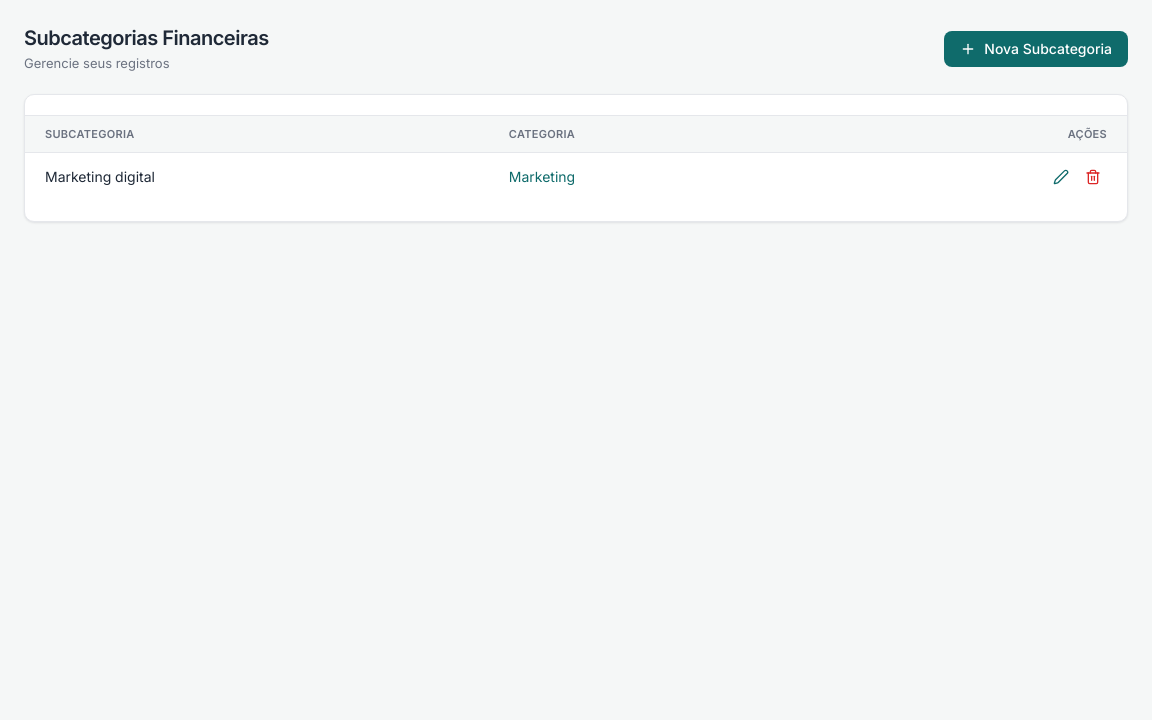
<FinancialSubcategoryList> › exclui uma subcategoria pelo botão da linha e recarrega a lista
Click the button named "Excluir" at (1093,177), box [1079,163,1107,191]
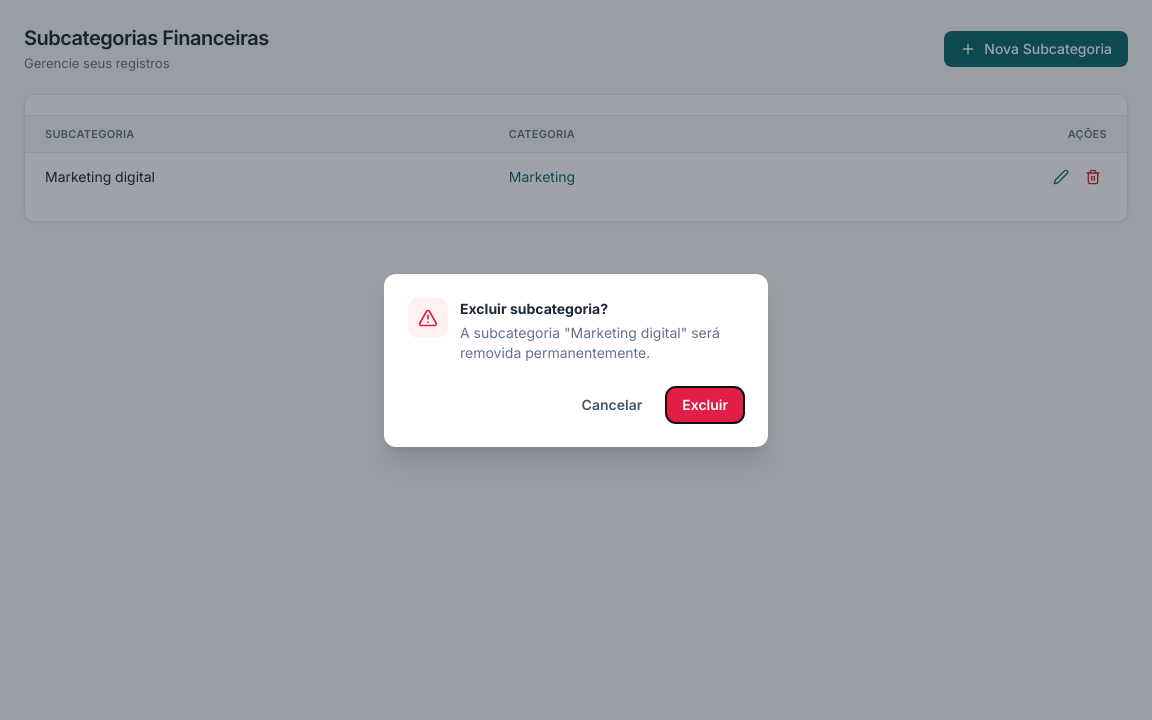
Click the button "Excluir" at (705,404), box [666,386,744,422]
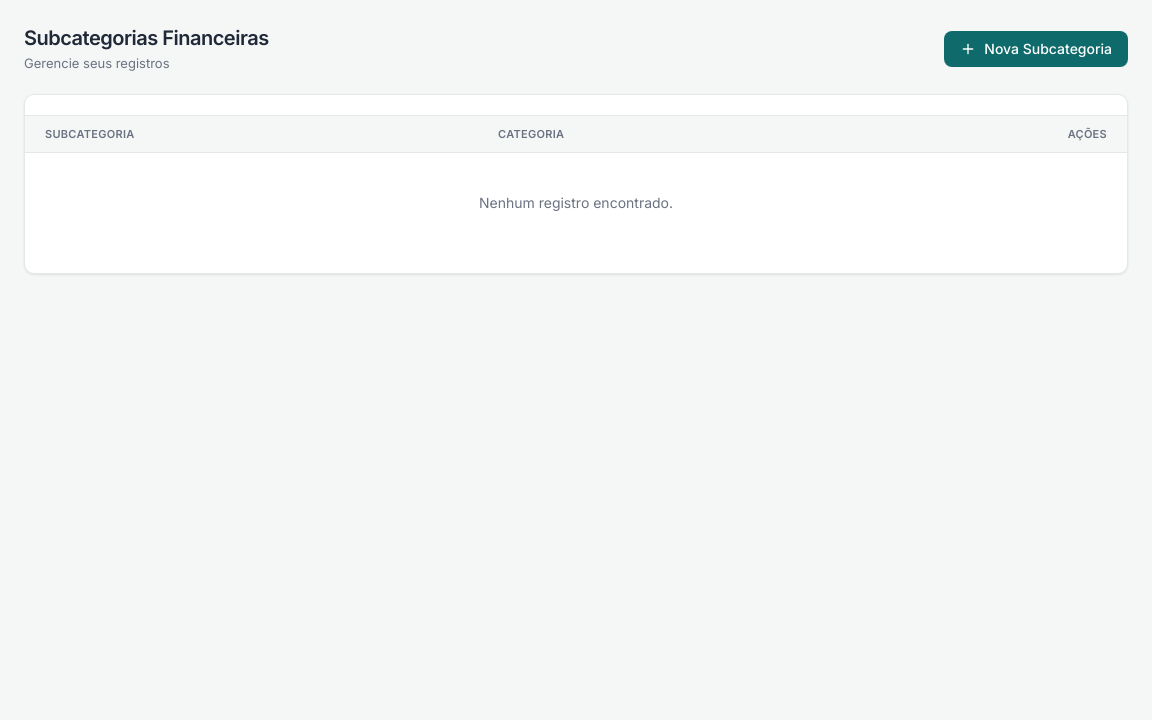
Expected: the text "Marketing digital" is gone
